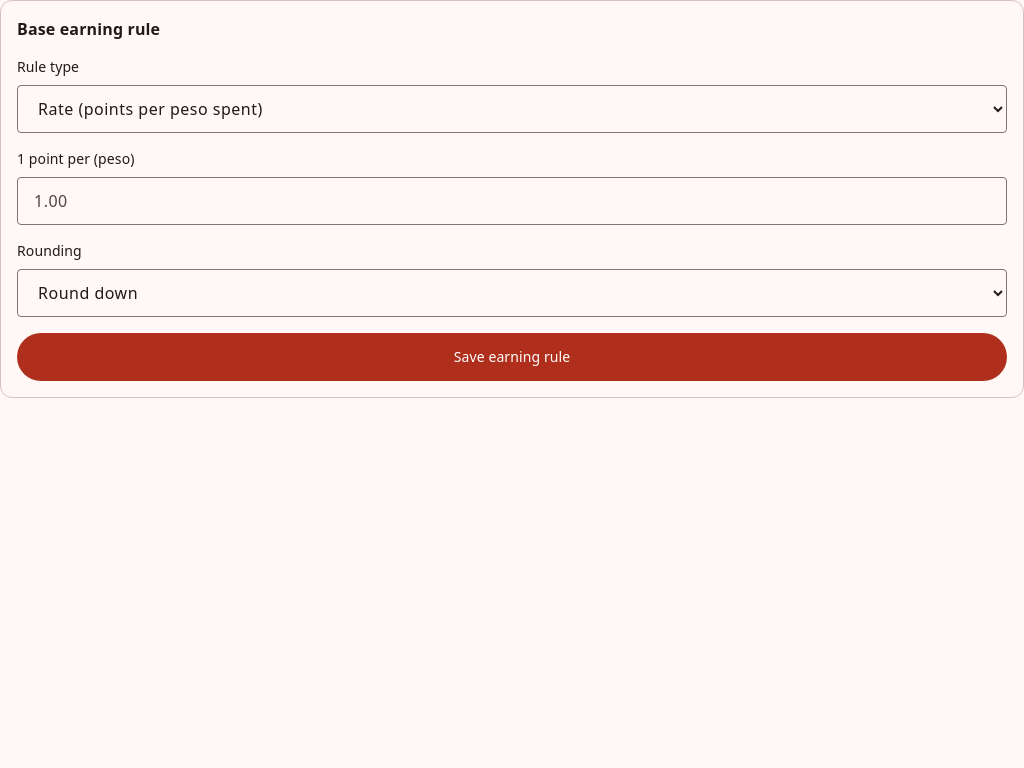
EarningRuleCard receipt preview › CRITICAL: the card mounts the preview and computes under the rate in the form
Type "50" into the field labelled "1 point per (peso)" at (512, 201), box [17,177,1007,225]
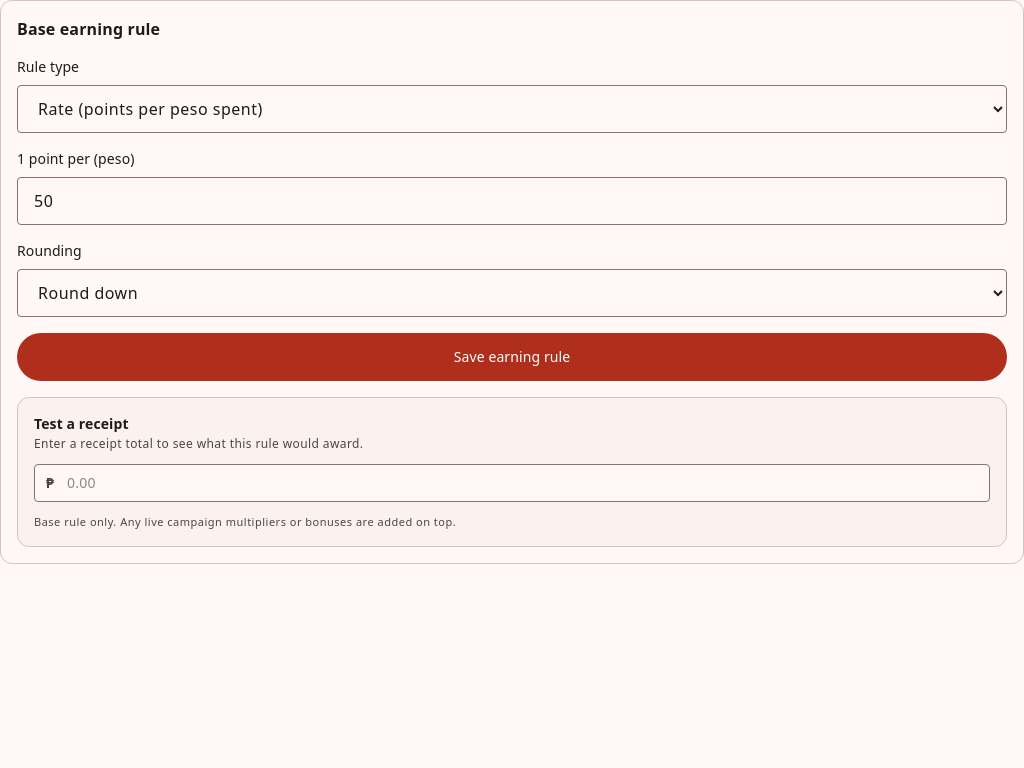
Type "300" into the number field named "Receipt total in pesos" at (512, 483), box [34,464,990,502]
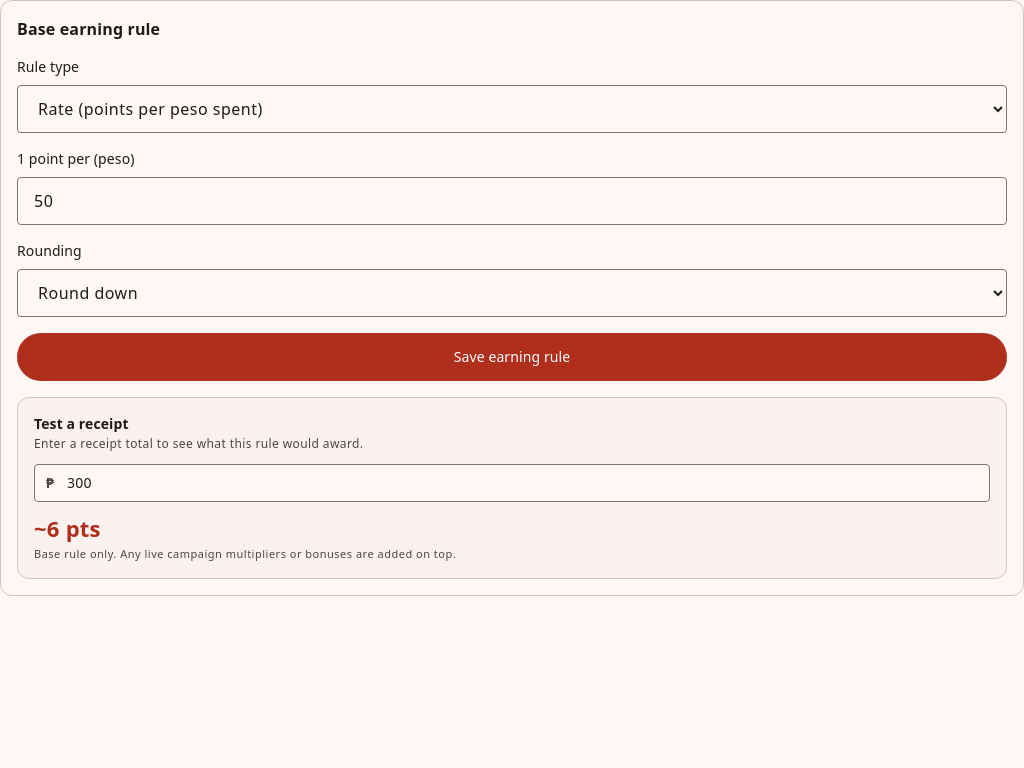
expect the text "~6 pts" is shown: met, box [34,513,101,543]
